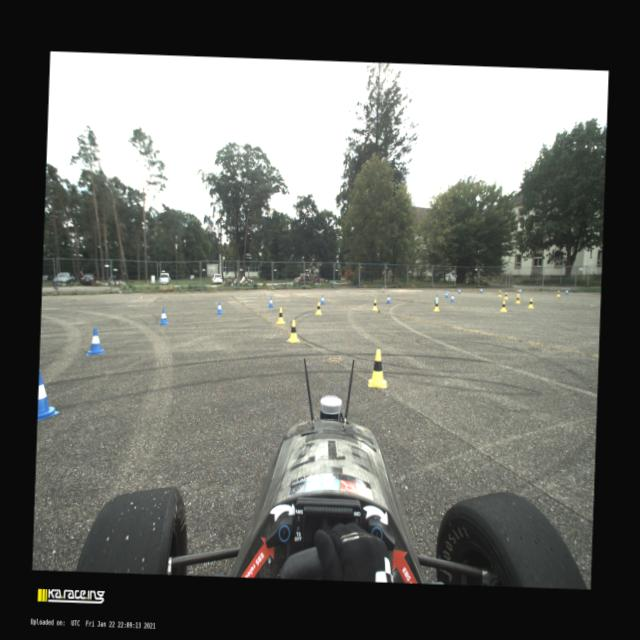blue_cone: (37, 369, 61, 422), (86, 326, 105, 356), (158, 307, 170, 325), (216, 301, 223, 314), (268, 296, 273, 308), (433, 294, 439, 303), (386, 294, 391, 303), (320, 294, 324, 304), (450, 294, 455, 302), (564, 288, 568, 294), (457, 288, 460, 294), (445, 291, 448, 297), (446, 288, 448, 296), (479, 287, 482, 292), (518, 288, 520, 292)
yellow_cone: (368, 348, 388, 387), (286, 319, 300, 342), (275, 306, 285, 324), (315, 301, 322, 315), (432, 299, 440, 311), (499, 300, 506, 312), (372, 298, 378, 310), (527, 298, 533, 308), (514, 293, 520, 303), (503, 291, 508, 299), (498, 289, 502, 297), (556, 290, 560, 297), (516, 289, 519, 296)
